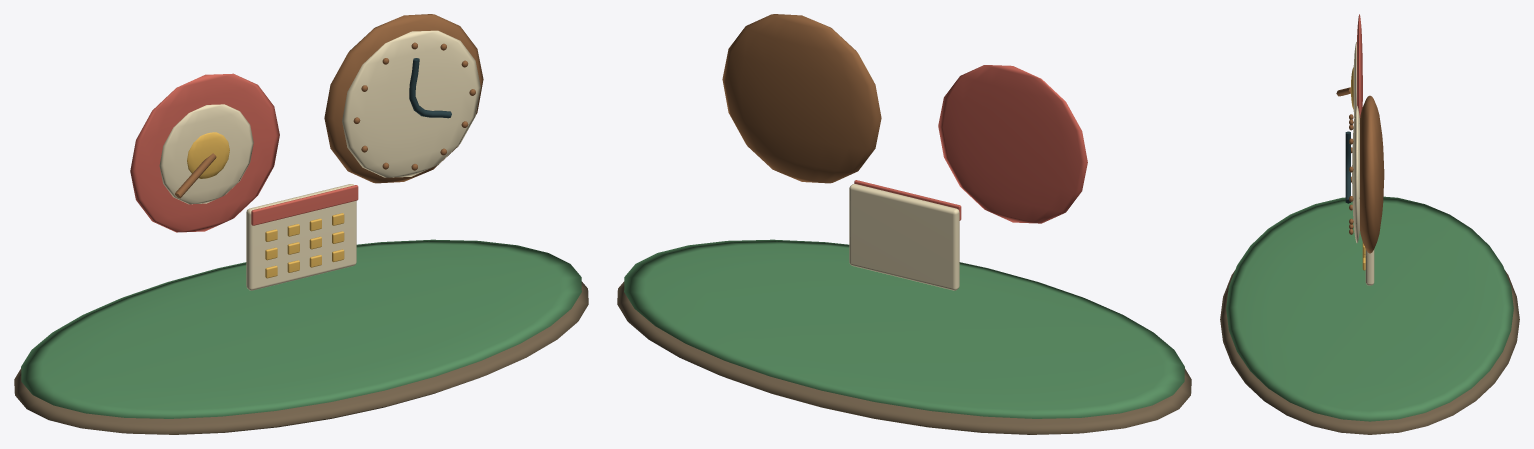
The model's file is complete-second-positioned-time.glb.
3 renders of one model, left to right at view 1: azimuth 30°, elevation 25°; view 2: azimuth 150°, elevation 25°; view 3: azimuth 270°, elevation 25°, orthographic. The views are drawn at different scales.
Visible parts, largest first — view 1: complete-second-positioned-time_surface_01, complete-second-positioned-time_surface_03, complete-second-positioned-time_surface_02, complete-second-positioned-time_surface_00, complete-second-positioned-time_surface_05, complete-second-positioned-time_surface_04, complete-second-positioned-time_surface_06; view 2: complete-second-positioned-time_surface_01, complete-second-positioned-time_surface_05, complete-second-positioned-time_surface_02, complete-second-positioned-time_surface_00, complete-second-positioned-time_surface_03; view 3: complete-second-positioned-time_surface_01, complete-second-positioned-time_surface_00, complete-second-positioned-time_surface_05, complete-second-positioned-time_surface_03, complete-second-positioned-time_surface_02, complete-second-positioned-time_surface_06.
Part boxes in pixels (x1,y1,x2,y2): complete-second-positioned-time_surface_01: (21, 239, 581, 418); complete-second-positioned-time_surface_03: (159, 30, 480, 290); complete-second-positioned-time_surface_02: (130, 73, 358, 232); complete-second-positioned-time_surface_00: (14, 281, 588, 434); complete-second-positioned-time_surface_05: (175, 14, 483, 198); complete-second-positioned-time_surface_04: (187, 132, 344, 278); complete-second-positioned-time_surface_06: (409, 58, 451, 118); complete-second-positioned-time_surface_01: (624, 239, 1184, 418); complete-second-positioned-time_surface_05: (722, 14, 881, 183); complete-second-positioned-time_surface_02: (854, 65, 1087, 223); complete-second-positioned-time_surface_00: (617, 281, 1191, 434); complete-second-positioned-time_surface_03: (849, 54, 959, 290); complete-second-positioned-time_surface_01: (1226, 196, 1513, 421); complete-second-positioned-time_surface_00: (1220, 270, 1519, 434); complete-second-positioned-time_surface_05: (1336, 87, 1384, 253); complete-second-positioned-time_surface_03: (1352, 42, 1374, 285); complete-second-positioned-time_surface_02: (1357, 14, 1362, 117); complete-second-positioned-time_surface_06: (1345, 131, 1350, 203).
Size of the model in its own units: 4.56 by 2.52 by 2.5.
